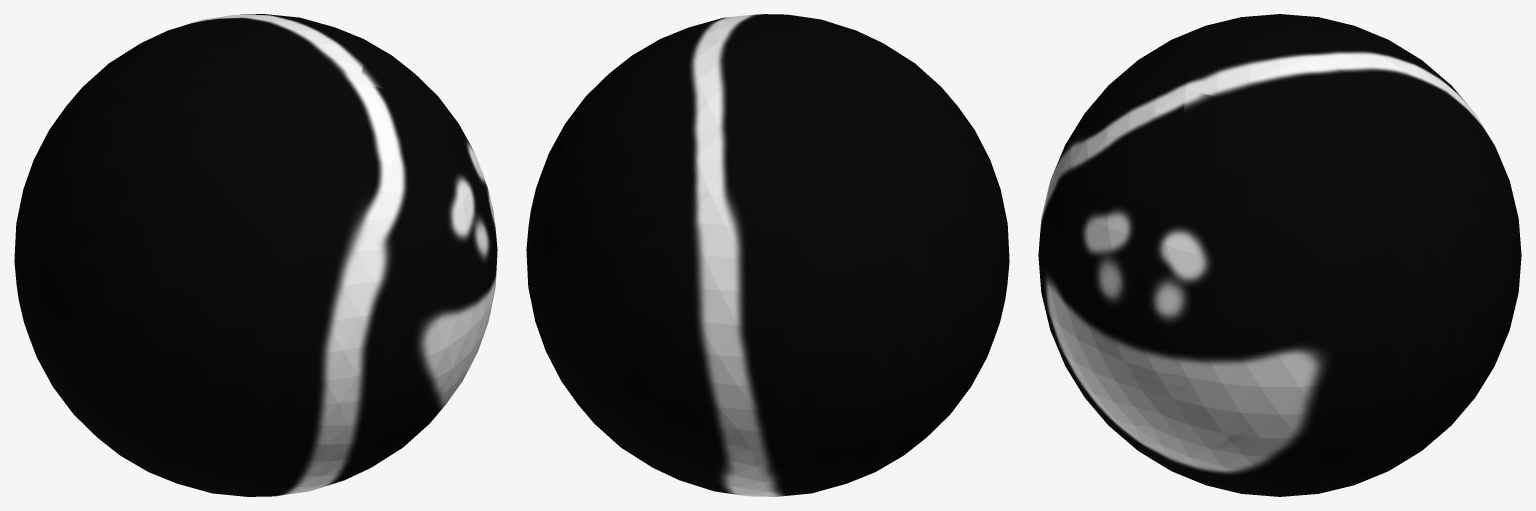
The model's file is ball.gltf.
3 renders of one model, left to right at view 1: azimuth 30°, elevation 25°; view 2: azimuth 150°, elevation 25°; view 3: azimuth 270°, elevation 25°, orthographic.
Visible parts, largest first — view 1: Icosphere; view 2: Icosphere; view 3: Icosphere.
Boxes of the visible parts, left/top/right/bottom form: Icosphere: left=14, top=14, right=497, bottom=496; Icosphere: left=526, top=14, right=1009, bottom=496; Icosphere: left=1038, top=14, right=1521, bottom=496.
Size of the model in its own units: 1 by 1 by 1.
1 material, 1 textured.
